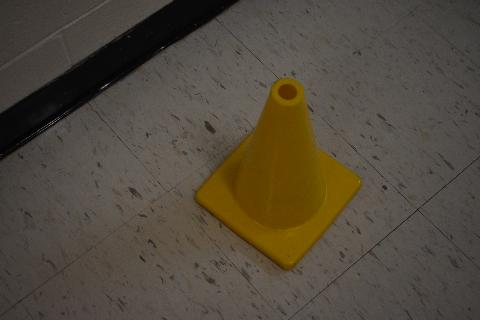cone: (195, 78, 362, 270)
